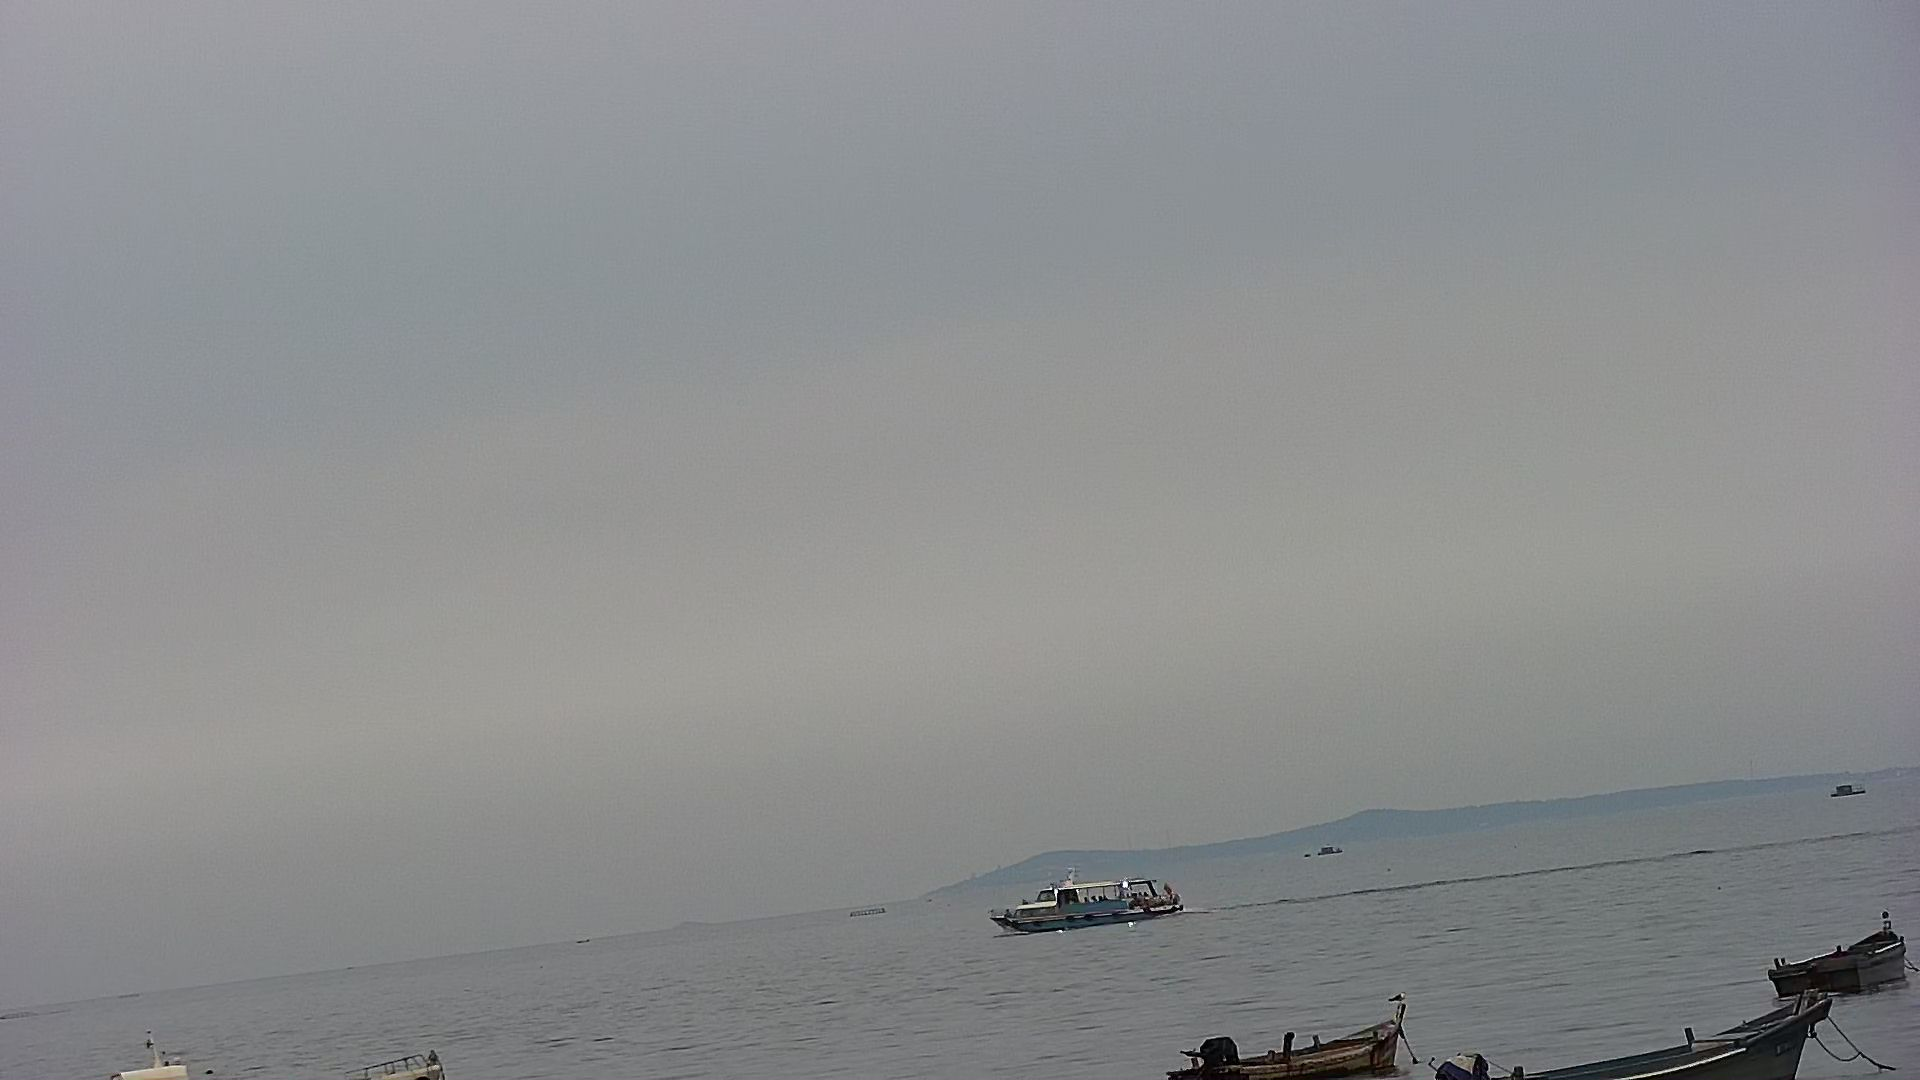boat: (1767, 916, 1909, 998)
ship: (981, 861, 1199, 931)
